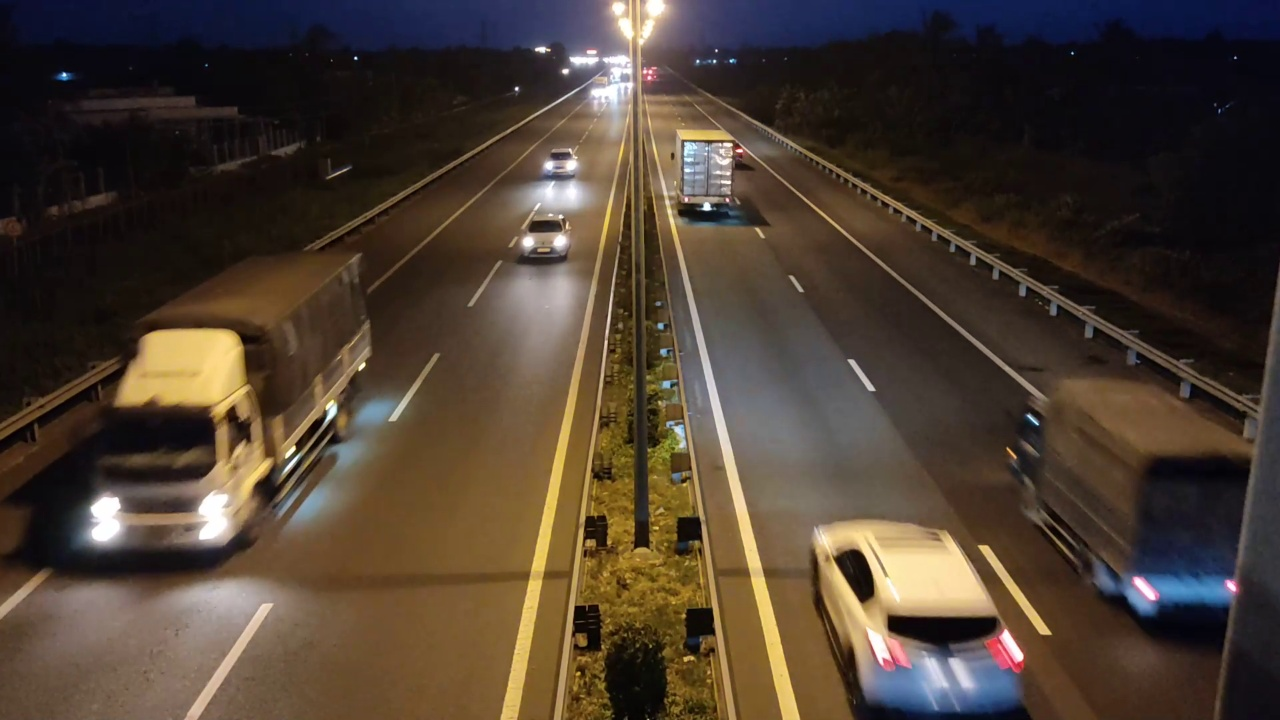car: (808, 517, 1028, 717), (511, 208, 573, 264), (541, 147, 579, 179)
truck: (72, 250, 366, 558), (1008, 374, 1256, 629), (673, 129, 737, 219)
